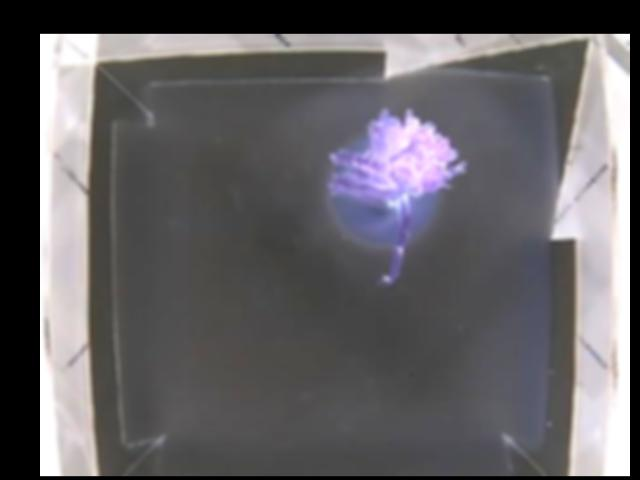Mooli: (327, 109, 465, 282)
